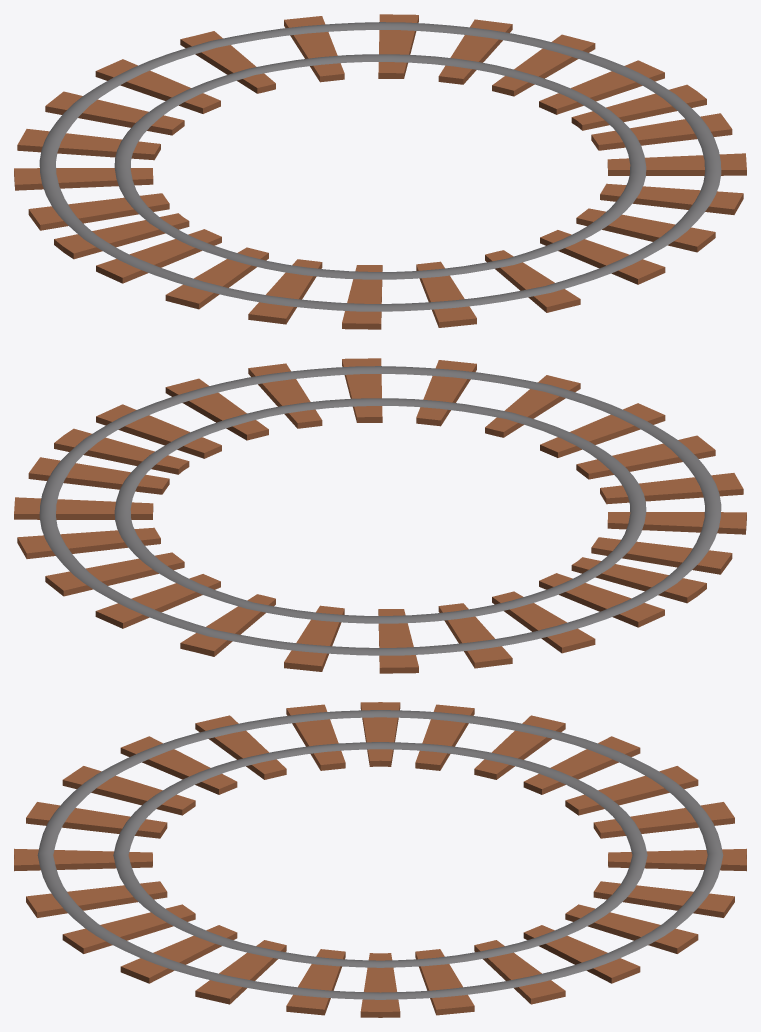
File: Round_Rail.fbx
3 views of the same model, one above another, from view 1: azimuth 30°, elevation 25°; view 2: azimuth 150°, elevation 25°; view 3: azimuth 270°, elevation 25° (orthographic).
Visible parts, largest first — view 1: Round_Rail; view 2: Round_Rail; view 3: Round_Rail.
Boxes of the visible parts, x1,y1,x2,y2 form: Round_Rail: (14, 14, 746, 329); Round_Rail: (14, 358, 746, 673); Round_Rail: (14, 702, 746, 1017).
Bounding box in the file's own units: 961 × 14.33 × 961.
